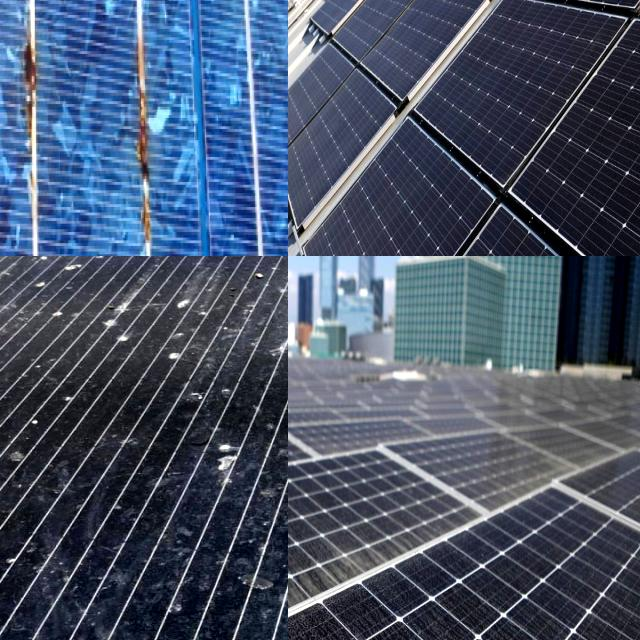bird: (60, 264, 262, 370), (161, 402, 265, 489), (188, 550, 288, 640)
crack: (400, 0, 615, 195), (486, 0, 640, 256), (301, 104, 497, 256), (288, 204, 640, 256), (288, 38, 358, 157)
dust: (512, 518, 620, 640), (288, 551, 334, 640), (288, 502, 335, 587), (288, 533, 319, 626), (474, 439, 526, 492), (356, 506, 408, 554), (288, 582, 307, 640)
shadow: (129, 26, 186, 256), (0, 0, 63, 138)
